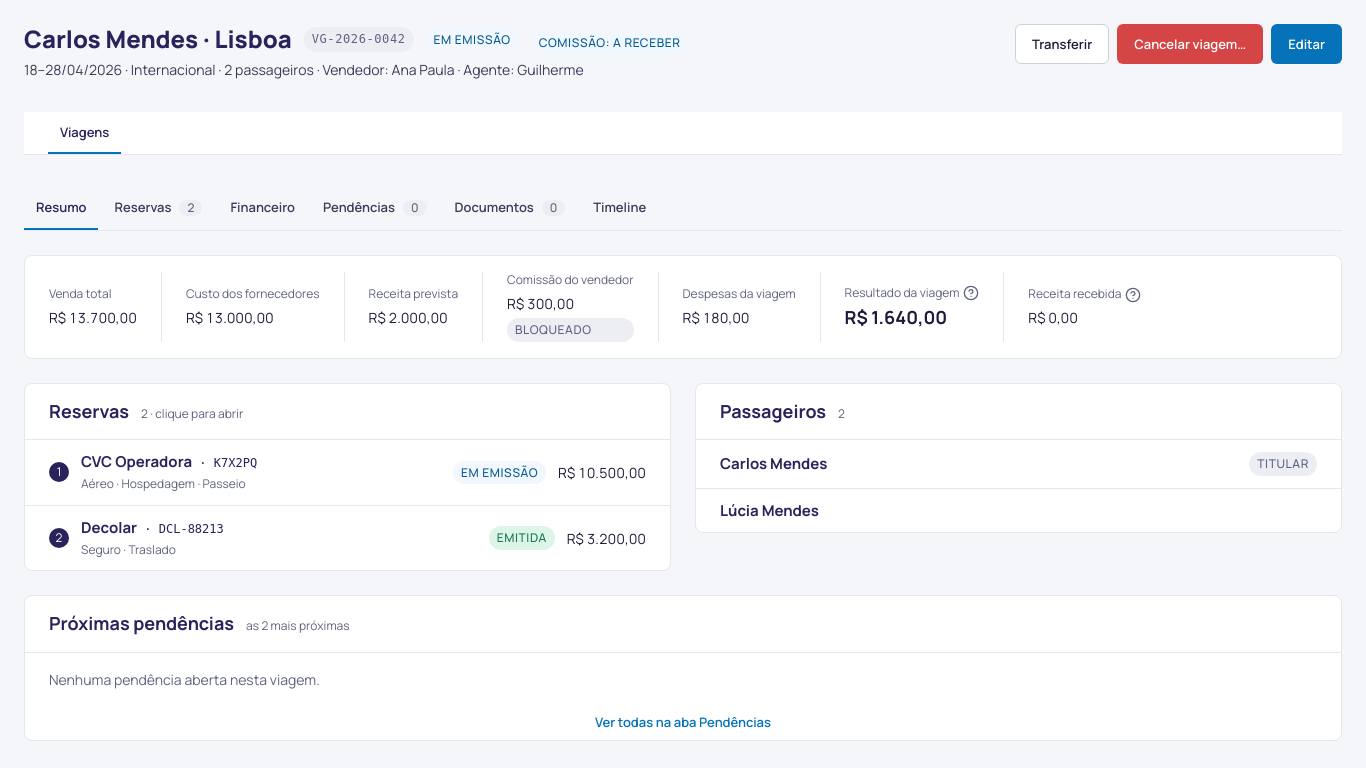
Test: Cancelar viagem… abre o modal
Step 1. Click the button "Cancelar viagem…" → click(1190, 44), box [1117,24,1263,64]
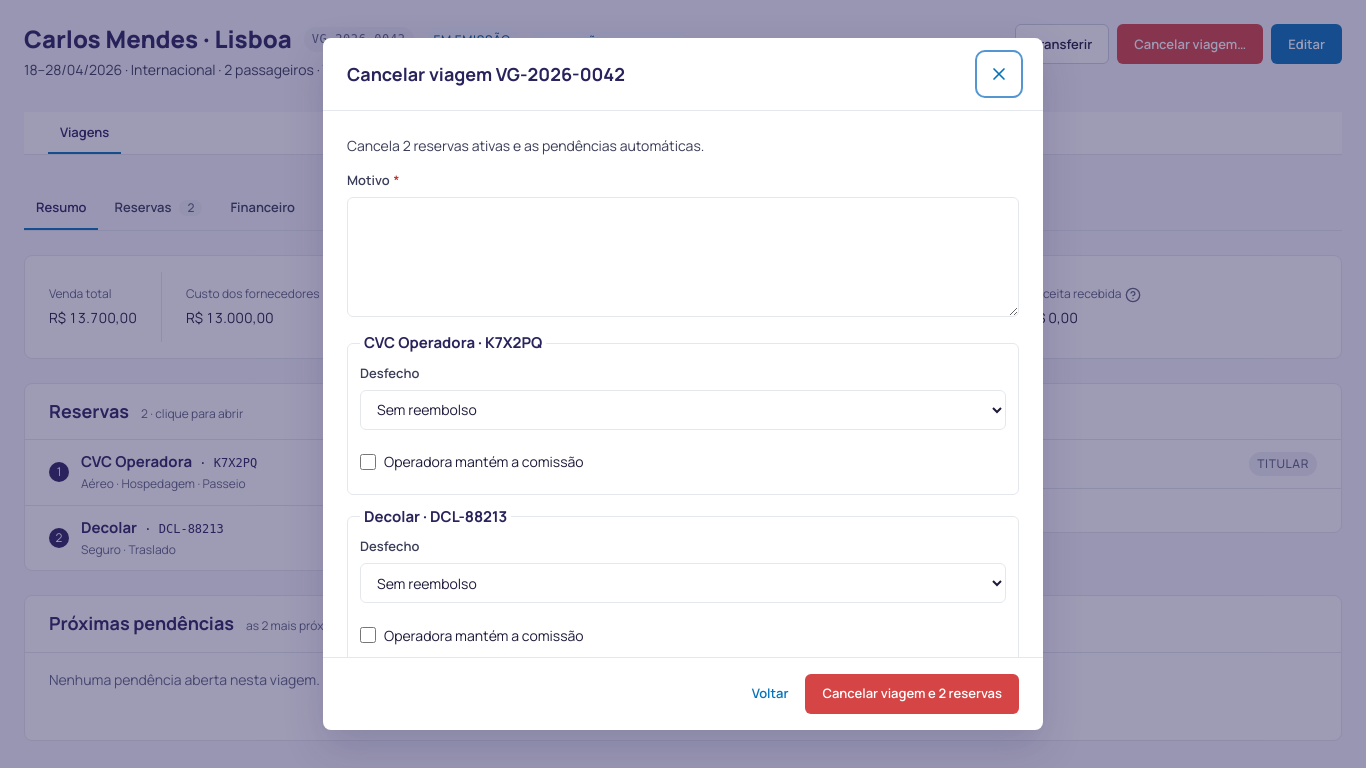
Check: the dialog shows "Cancelar viagem", box [347,62,625,86]
